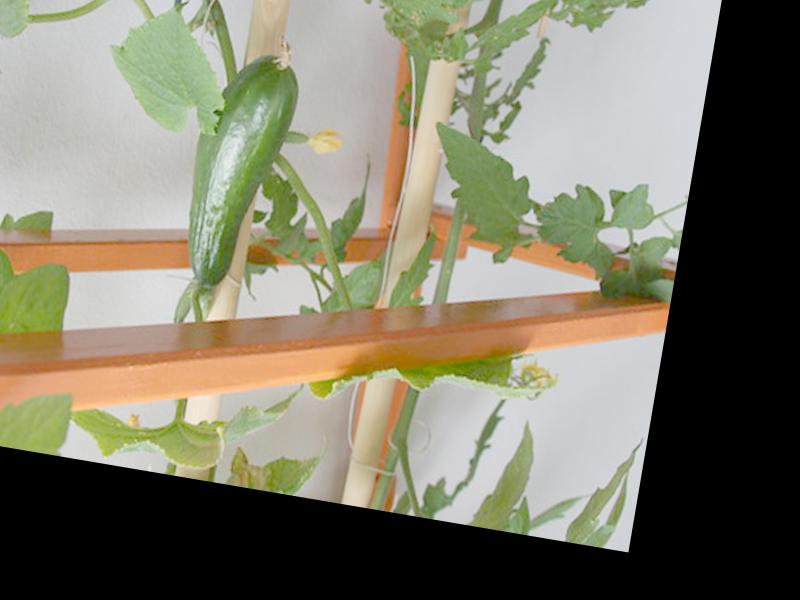Cucumber: (175, 29, 306, 294)
